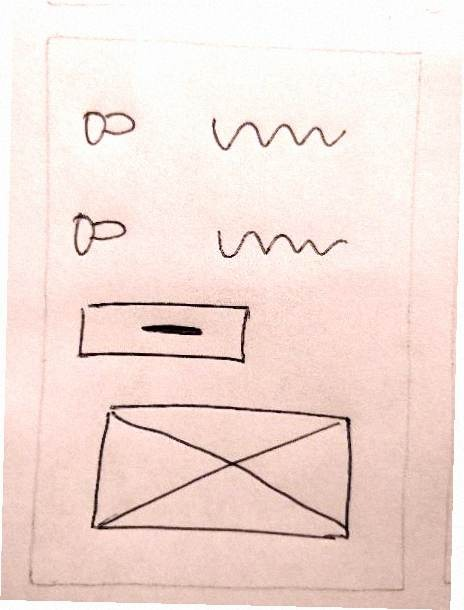button: (68, 291, 253, 375)
image: (84, 390, 365, 554)
switch: (64, 202, 128, 266), (72, 96, 146, 151)
text: (202, 106, 356, 165), (208, 213, 352, 272)
